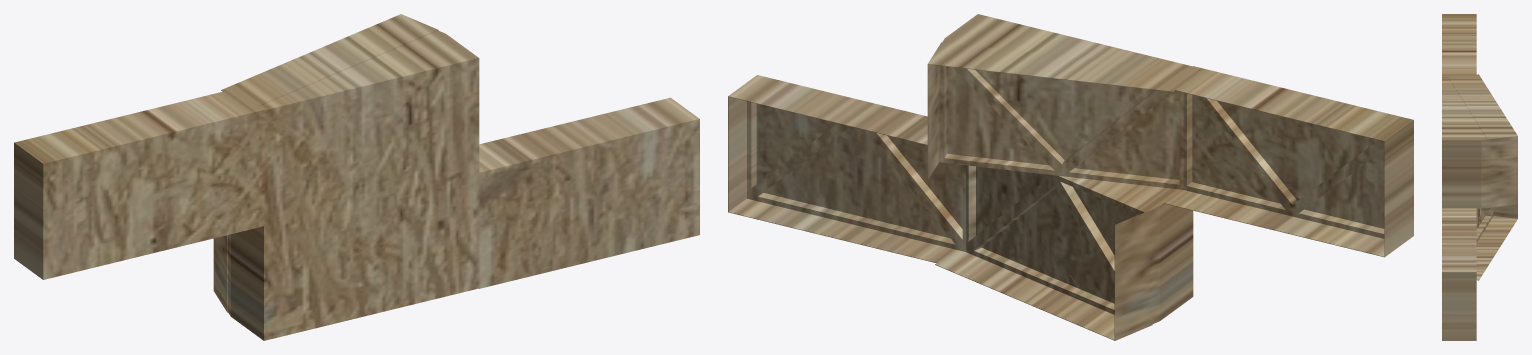
The model's file is KRail_slope_10cm.dae.
The picture shows the model from 3 angles, left to right: view 1: azimuth 30°, elevation 25°; view 2: azimuth 150°, elevation 25°; view 3: azimuth 270°, elevation 25°; orthographic projection. The views are drawn at different scales.
Visible parts, largest first — view 1: KRail slope 10; view 2: KRail slope 10; view 3: KRail slope 10.
Boxes of the visible parts, box(x1,y1,x2,y2) form: KRail slope 10: box(14, 14, 699, 340); KRail slope 10: box(728, 14, 1413, 340); KRail slope 10: box(1442, 14, 1517, 340).
Bounding box in the file's own units: 716 × 121 × 241.
1 material, 1 textured.
